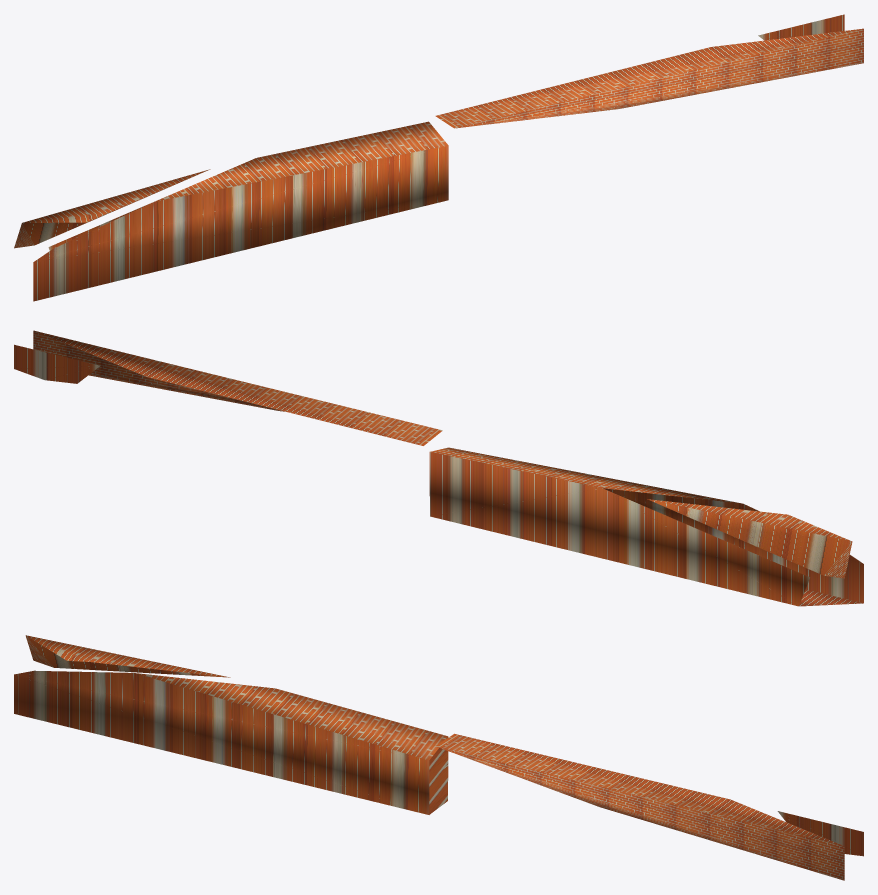
File: Wall.fbx
3 renders of one model, top to bottom at view 1: azimuth 30°, elevation 25°; view 2: azimuth 150°, elevation 25°; view 3: azimuth 330°, elevation 25°, orthographic.
Parts seen in each view (by area): view 1: Wall_cell.005, Wall_cell.004, Wall_cell, Wall_cell.003; view 2: Wall_cell.005, Wall_cell.004, Wall_cell, Wall_cell.003; view 3: Wall_cell.005, Wall_cell.004, Wall_cell, Wall_cell.003.
Boxes of the visible parts, x1,y1,x2,y2 form: Wall_cell.005: (33, 121, 448, 301); Wall_cell.004: (435, 28, 863, 128); Wall_cell: (14, 169, 210, 248); Wall_cell.003: (758, 14, 844, 40); Wall_cell.005: (429, 447, 863, 606); Wall_cell.004: (33, 330, 442, 445); Wall_cell: (647, 499, 852, 578); Wall_cell.003: (14, 344, 100, 383); Wall_cell.005: (14, 670, 448, 814); Wall_cell.004: (435, 733, 844, 880); Wall_cell: (25, 635, 230, 677); Wall_cell.003: (777, 811, 863, 856).
Bounding box in the file's own units: 21.61 × 1.75 × 0.8741.
